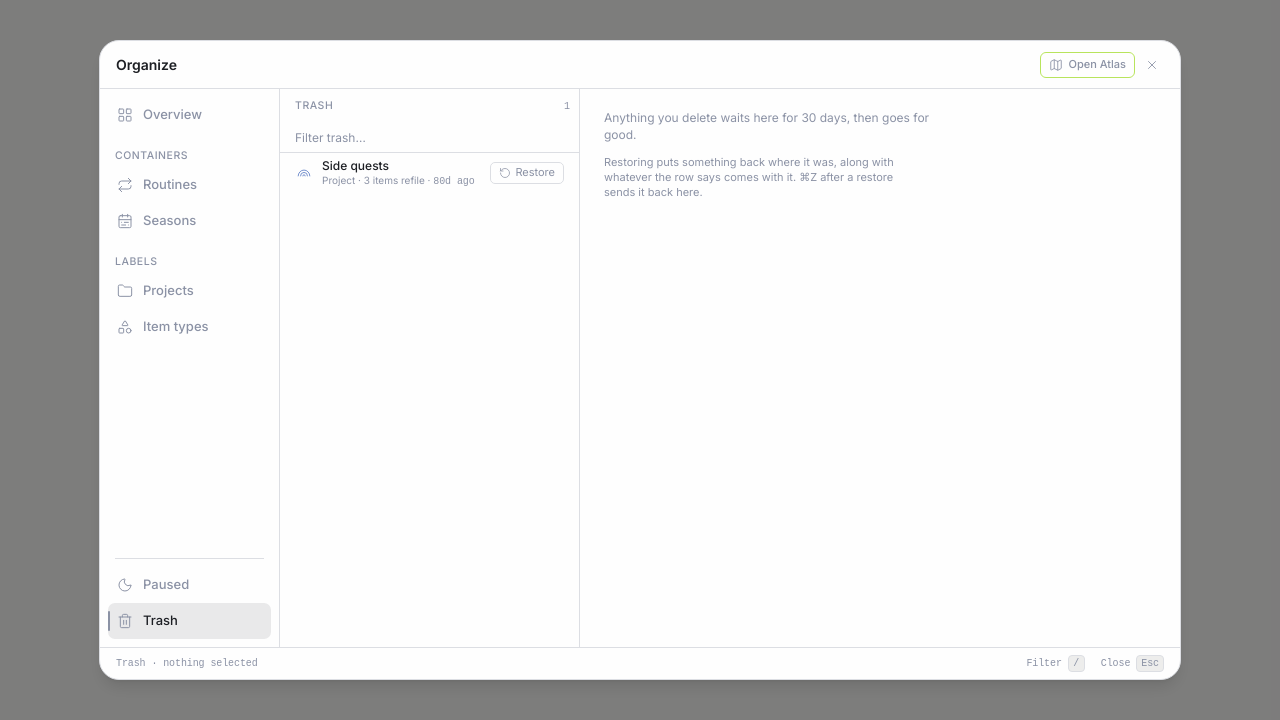
Test case: the Trash preview › previews a container with what a restore reconnects
Click the button with test id "trash-select": point(388, 172) [295,157,481,188]
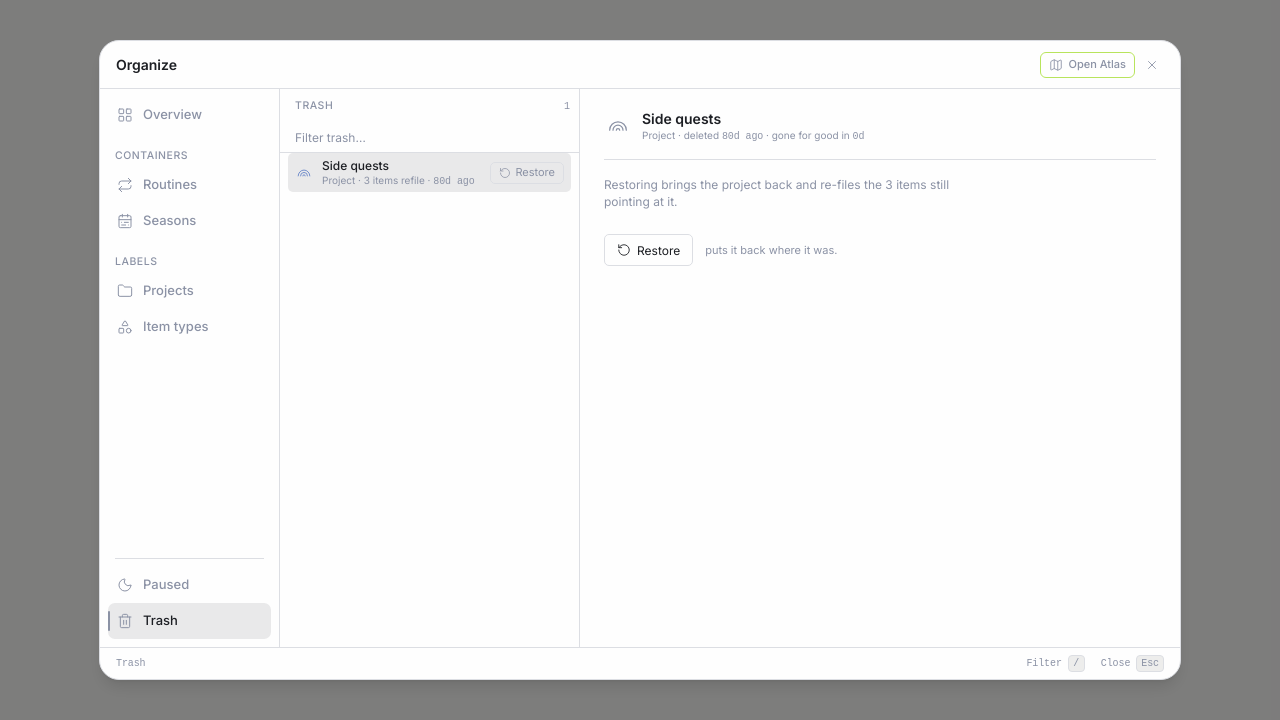
Result: the element with test id "trash-preview" shows "re-files the 3 items" at [604,177,949,209]
